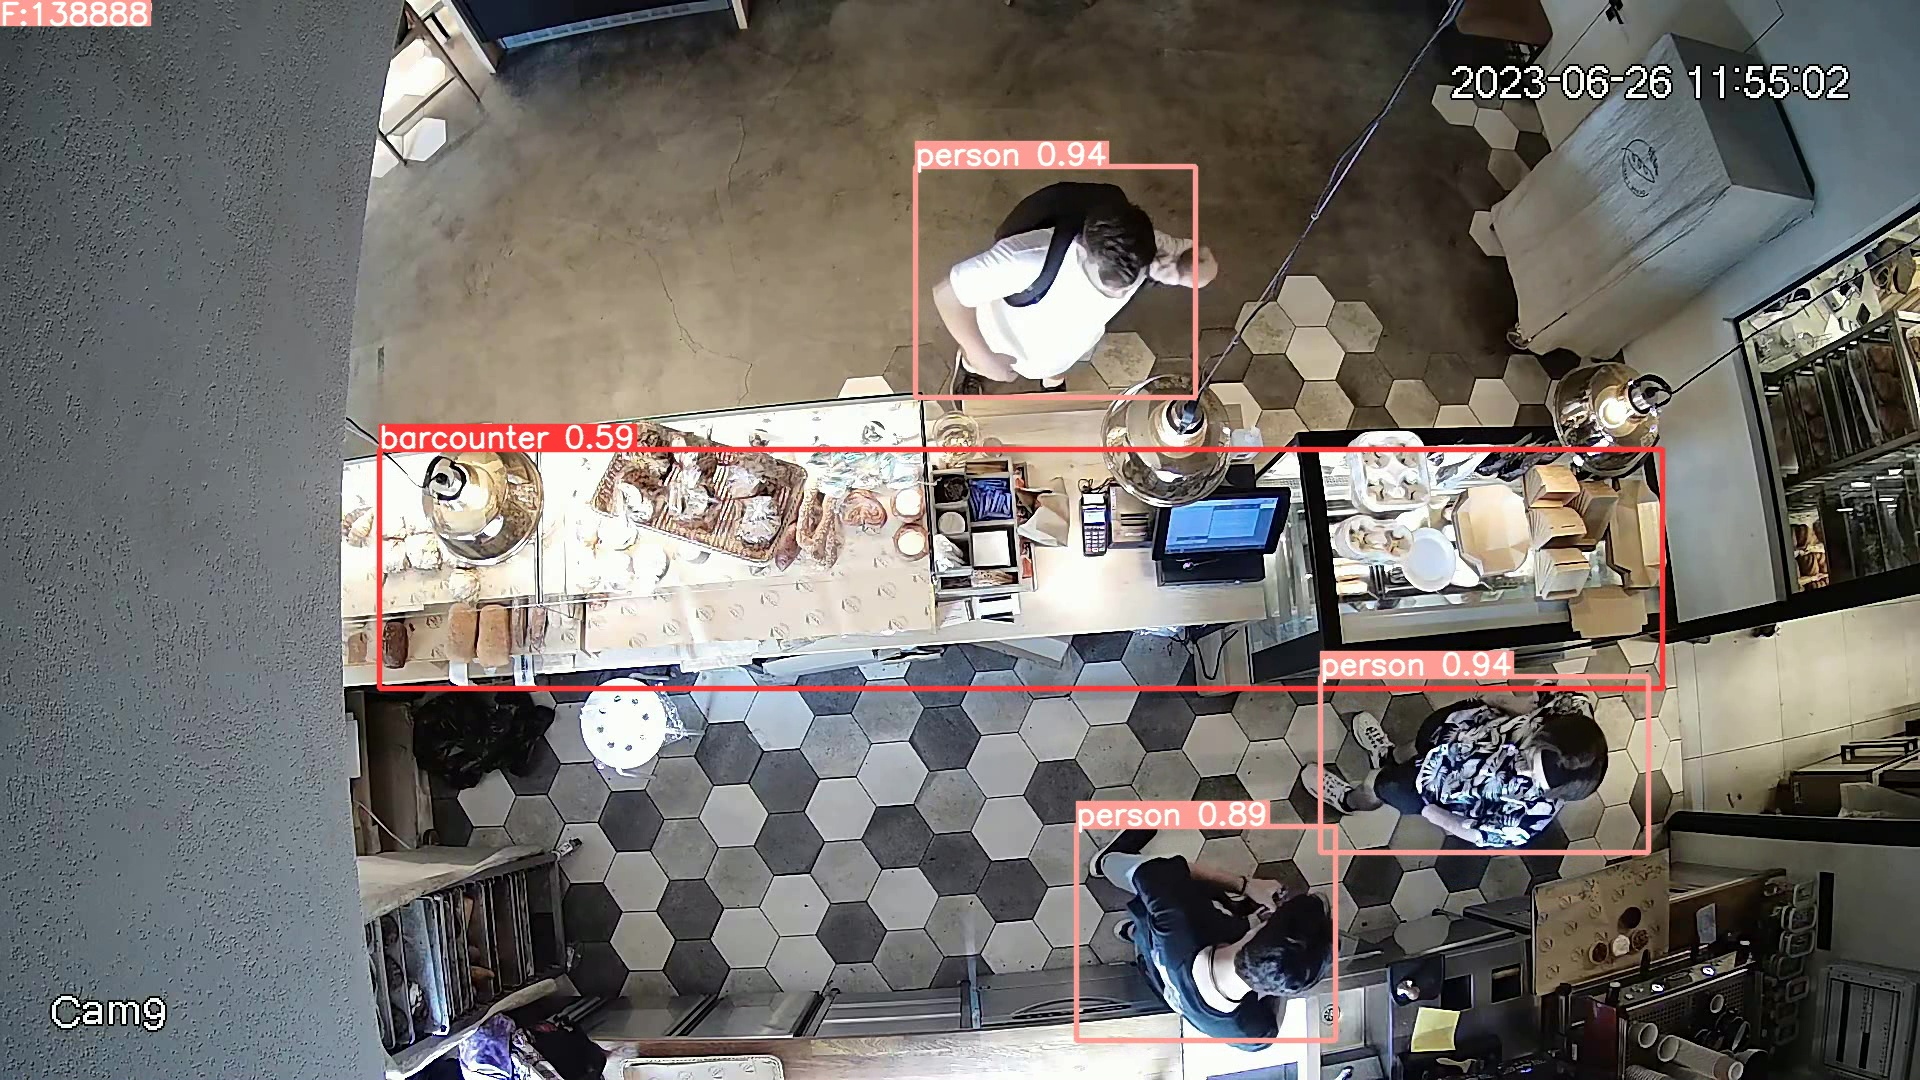pack: (1015, 477, 1069, 547)
